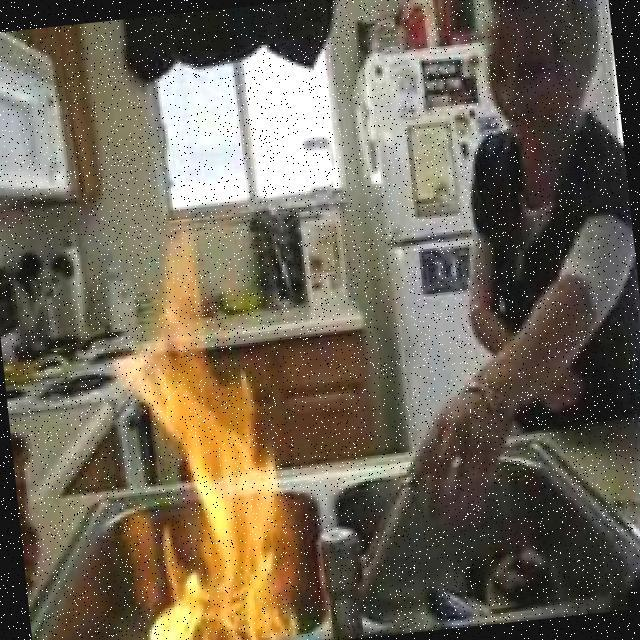Fire: (111, 235, 294, 640)
